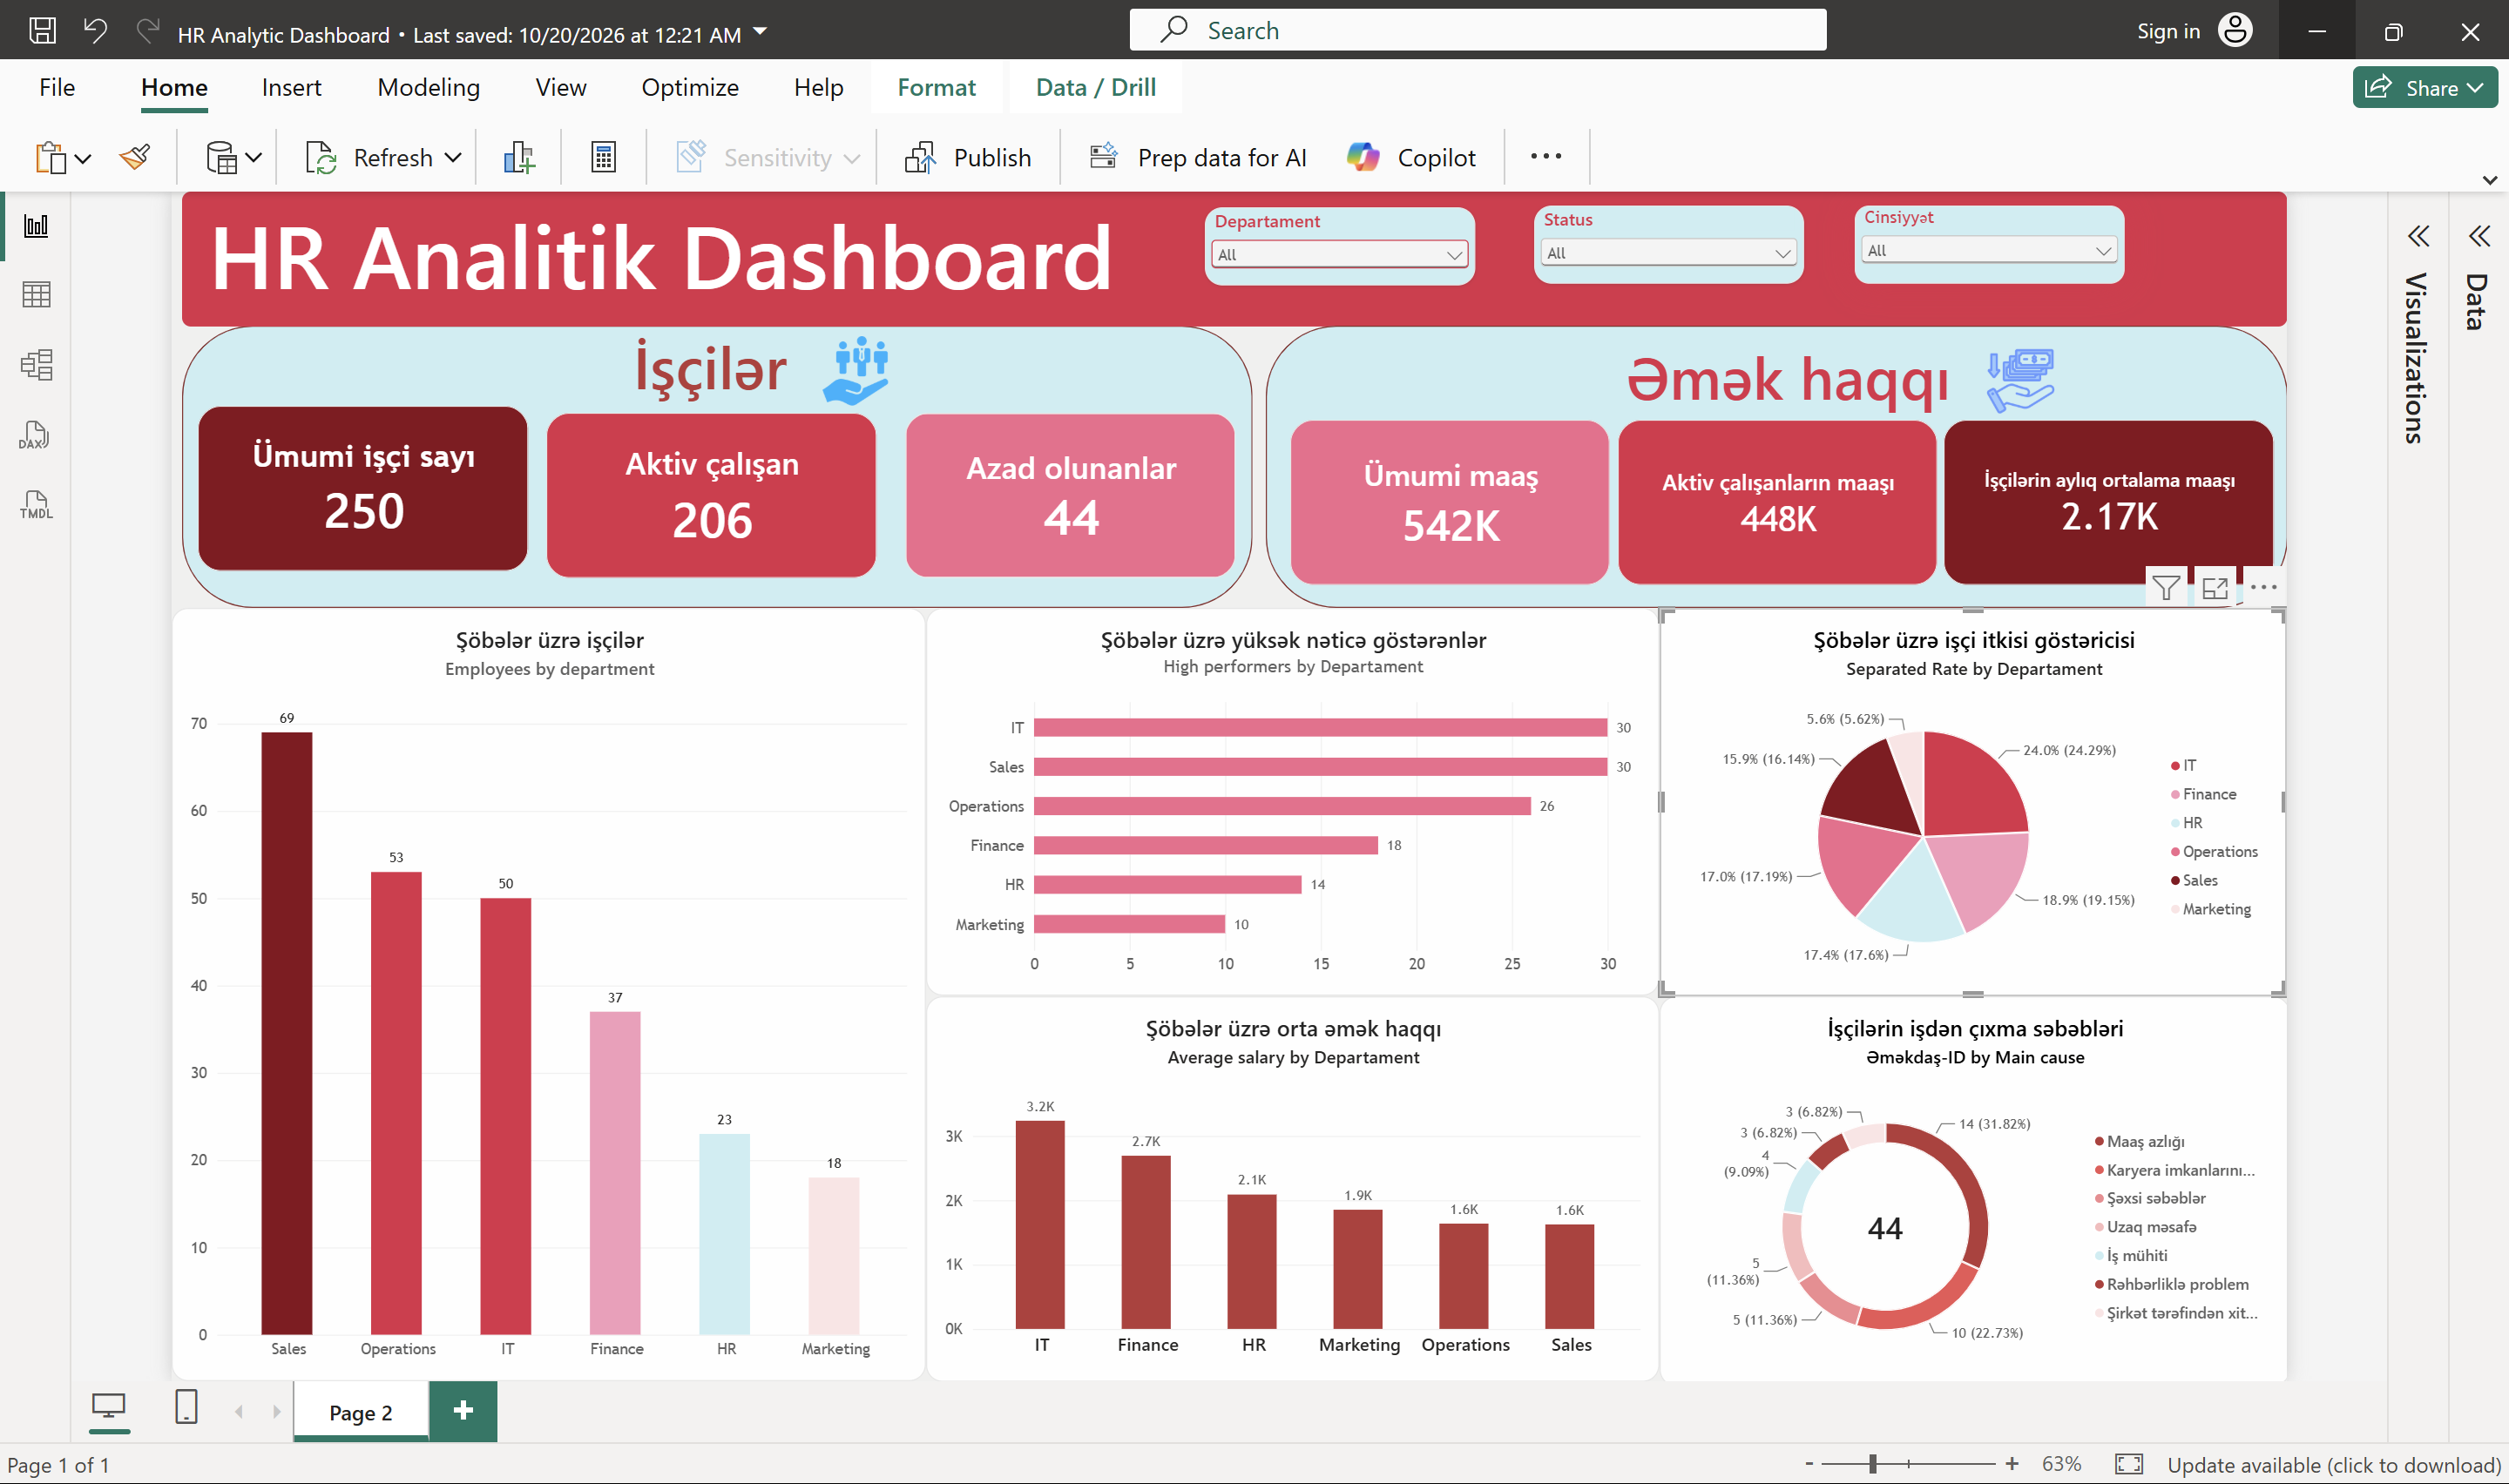

This screenshot's page, from the dashboard's own definition file:
{"tool":"powerbi","page":{"name":"Page 2","canvas":[1920,1080],"ordinal":1},"visuals":[{"type":"shape","box":[9.6,122.4,971.5,256.3],"z":0},{"type":"textbox","box":[9.2,0,1442.3,142.4],"z":1000},{"type":"textbox","box":[9.6,0,1910.4,122.4],"z":2000},{"type":"slicer","fields":{"Values":["hr_analytics table.Departament"]},"box":[937,13.8,245.7,71.2],"z":3000},{"type":"slicer","fields":{"Values":["hr_analytics table.Status"]},"box":[1237.3,13.4,245,71],"z":4000},{"type":"slicer","fields":{"Values":["hr_analytics table.Cinsiyyət"]},"box":[1528,13.4,245,71],"z":5000},{"type":"cardVisual","fields":{"Data":["hr_analytics_updated.Active employees"]},"box":[340.4,200.8,300,150],"z":6000},{"type":"shape","box":[992.5,122.4,927.5,256.3],"z":7000},{"type":"textbox","box":[145.3,122.4,686.5,82.2],"z":8000},{"type":"cardVisual","fields":{"Data":["hr_analytics_updated.Total employees"]},"box":[22.9,195.1,300,150],"z":9000},{"type":"cardVisual","fields":{"Data":["hr_analytics table.Separeted employees"]},"box":[665.5,200.8,300,150],"z":10000},{"type":"textbox","box":[1256.4,132,420.7,72.7],"z":11000},{"type":"image","box":[539.3,132,162.5,63.1],"z":12000},{"type":"image","box":[1596.8,141.5,162,63],"z":13000},{"type":"cardVisual","fields":{"Data":["hr_analytics_updated.Total Salary"]},"box":[1015.5,206.5,290,150],"z":14000},{"type":"cardVisual","fields":{"Data":["hr_analytics_updated.Active salary budget"]},"box":[1311.9,206.5,290,150],"z":15000},{"type":"cardVisual","fields":{"Data":["hr_analytics_updated.Avarage salary"]},"box":[1608.3,206.5,300.2,150],"z":16000},{"type":"donutChart","title":"İşçilərin işdən çıxma səbəbləri","fields":{"Category":["hr_analytics table.İşdən Çıxma Səbəbi"],"Y":["CountNonNull(hr_analytics table.Əməkdaş-ID)"]},"box":[1350.1,730.5,571.8,353.8],"z":17000},{"type":"clusteredColumnChart","title":"Şöbələr üzrə işçilər","fields":{"Category":["hr_analytics_updated.Departament"],"Y":["hr_analytics table.Employees by department"]},"box":[0,378.6,684.6,701.8],"z":18000},{"type":"clusteredBarChart","title":"Şöbələr üzrə yüksək nəticə göstərənlər","fields":{"Category":["hr_analytics table.Departament"],"Y":["hr_analytics table.High performers"]},"box":[684.6,378.6,665.5,351.9],"z":19000},{"type":"clusteredColumnChart","title":"Şöbələr üzrə orta əmək haqqı","fields":{"Category":["hr_analytics table.Departament"],"Y":["hr_analytics table.Avarage salary"]},"box":[684.6,730.5,665.5,350],"z":20000},{"type":"pieChart","title":"Şöbələr üzrə işçi itkisi göstəricisi","fields":{"Category":["hr_analytics table.Departament"],"Y":["hr_analytics table.Separated Rate"]},"box":[1350.1,378.6,569.9,351.9],"z":21000}]}

Visuals, with their boxes on the page's 1920x1080 design canvas (x1, y1, x2, y2). These are canvas units, not pixel positions in the 2509x1484 screenshot, which may show the page scaled, cropped or inside an application window:
shape: bbox=(10, 122, 981, 379)
textbox: bbox=(9, 0, 1452, 142)
textbox: bbox=(10, 0, 1920, 122)
slicer - hr_analytics table.Departament: bbox=(937, 14, 1183, 85)
slicer - hr_analytics table.Status: bbox=(1237, 13, 1482, 84)
slicer - hr_analytics table.Cinsiyyət: bbox=(1528, 13, 1773, 84)
cardVisual - hr_analytics_updated.Active employees: bbox=(340, 201, 640, 351)
shape: bbox=(992, 122, 1920, 379)
textbox: bbox=(145, 122, 832, 205)
cardVisual - hr_analytics_updated.Total employees: bbox=(23, 195, 323, 345)
cardVisual - hr_analytics table.Separeted employees: bbox=(666, 201, 966, 351)
textbox: bbox=(1256, 132, 1677, 205)
image: bbox=(539, 132, 702, 195)
image: bbox=(1597, 142, 1759, 204)
cardVisual - hr_analytics_updated.Total Salary: bbox=(1016, 206, 1306, 356)
cardVisual - hr_analytics_updated.Active salary budget: bbox=(1312, 206, 1602, 356)
cardVisual - hr_analytics_updated.Avarage salary: bbox=(1608, 206, 1908, 356)
"İşçilərin işdən çıxma səbəbləri" donutChart: bbox=(1350, 730, 1922, 1084)
"Şöbələr üzrə işçilər" clusteredColumnChart: bbox=(0, 379, 685, 1080)
"Şöbələr üzrə yüksək nəticə göstərənlər" clusteredBarChart: bbox=(685, 379, 1350, 730)
"Şöbələr üzrə orta əmək haqqı" clusteredColumnChart: bbox=(685, 730, 1350, 1080)
"Şöbələr üzrə işçi itkisi göstəricisi" pieChart: bbox=(1350, 379, 1920, 730)
